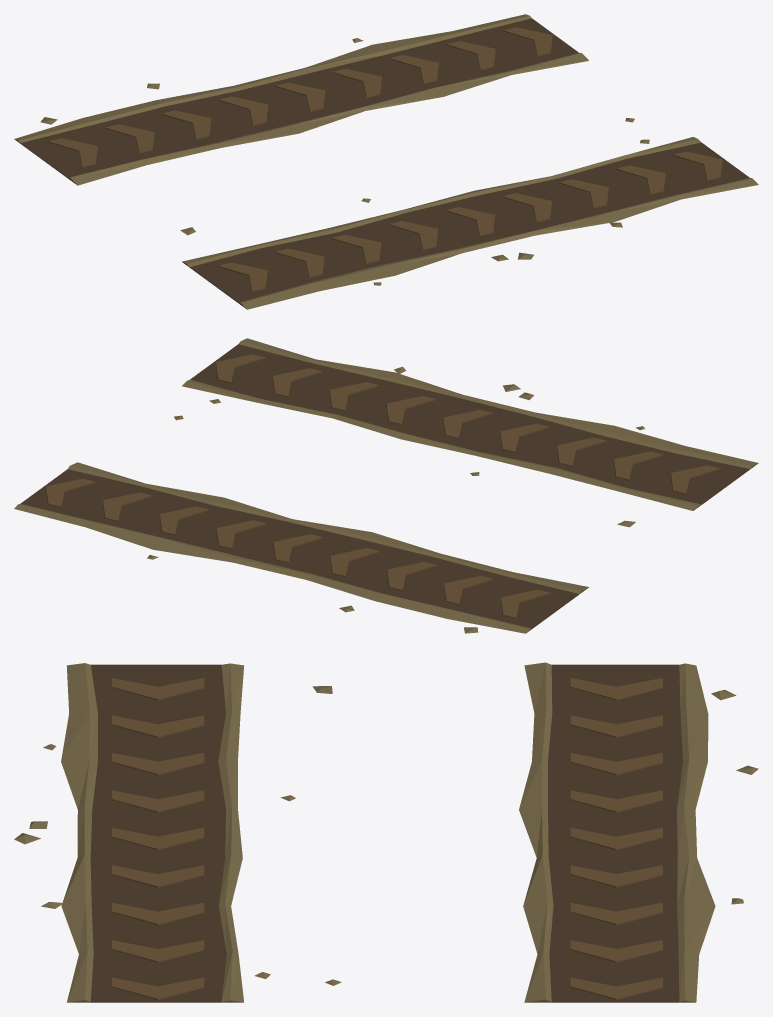
The model's file is tank-track-rut-decal-8c32a2.glb.
The picture shows the model from 3 angles, top to bottom: view 1: azimuth 30°, elevation 25°; view 2: azimuth 150°, elevation 25°; view 3: azimuth 270°, elevation 25°; orthographic projection. The views are drawn at different scales.
Parts seen in each view (by area): view 1: tank-track-rut-mark; view 2: tank-track-rut-mark; view 3: tank-track-rut-mark.
Part boxes in pixels (bbox=[...]): tank-track-rut-mark: bbox=[14, 14, 758, 309]; tank-track-rut-mark: bbox=[14, 338, 758, 633]; tank-track-rut-mark: bbox=[14, 662, 758, 1002].
Size of the model in its own units: 4 by 0.0179 by 3.74.
